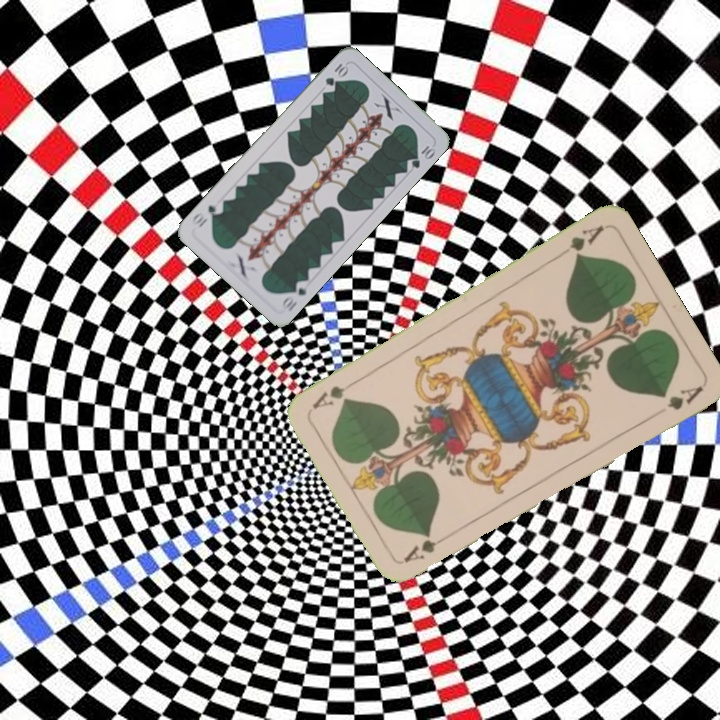G10: (277, 276, 312, 314), (321, 59, 351, 89)
GA: (399, 529, 454, 566), (566, 221, 607, 260)
